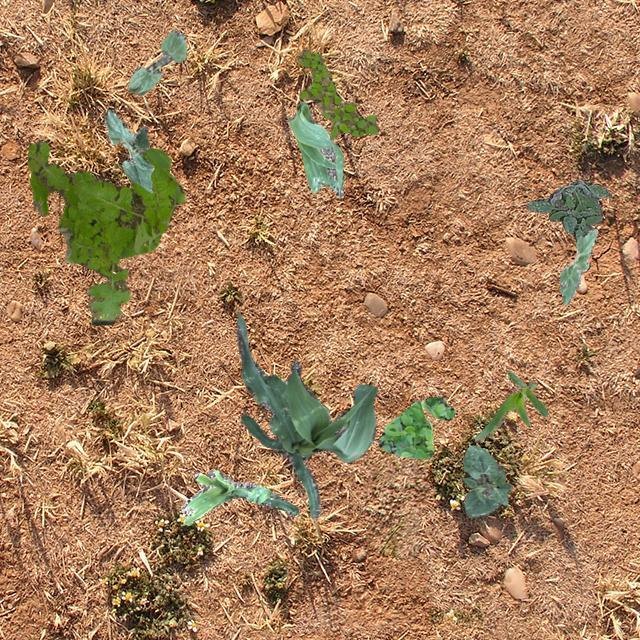crop: (236, 312, 376, 518), (180, 468, 298, 524), (286, 100, 342, 198), (474, 370, 546, 440), (104, 108, 152, 192), (126, 30, 184, 94), (461, 444, 512, 516), (558, 228, 596, 304)
weed: (26, 140, 182, 324), (296, 48, 378, 138), (526, 180, 610, 240), (378, 394, 453, 458)
